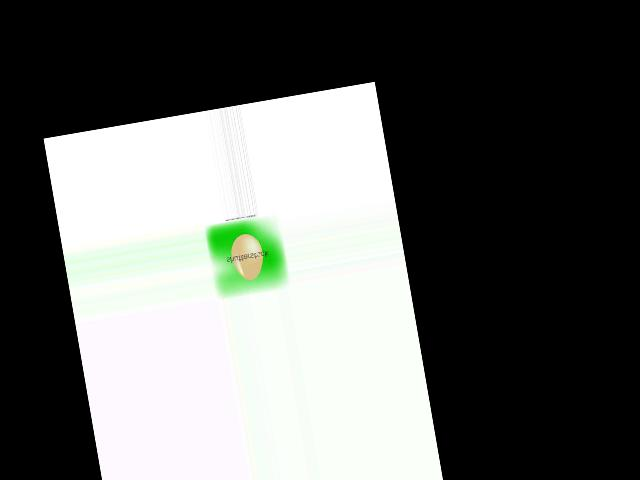egg: (228, 231, 267, 282)
